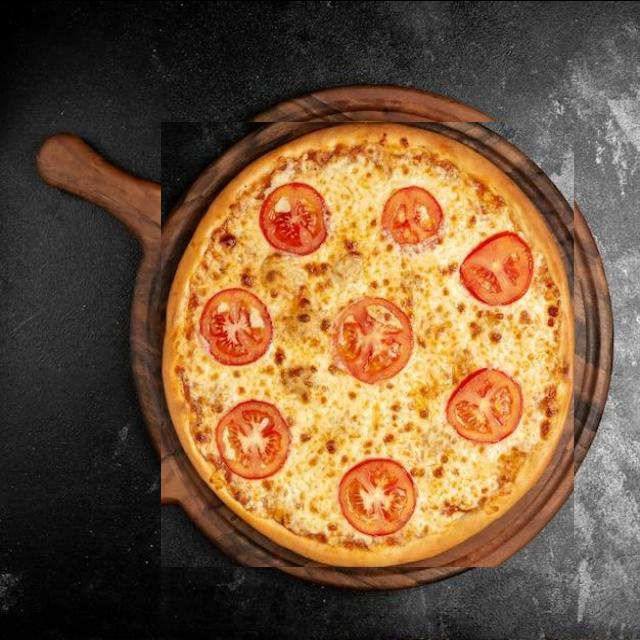pizza: (161, 121, 574, 566)
